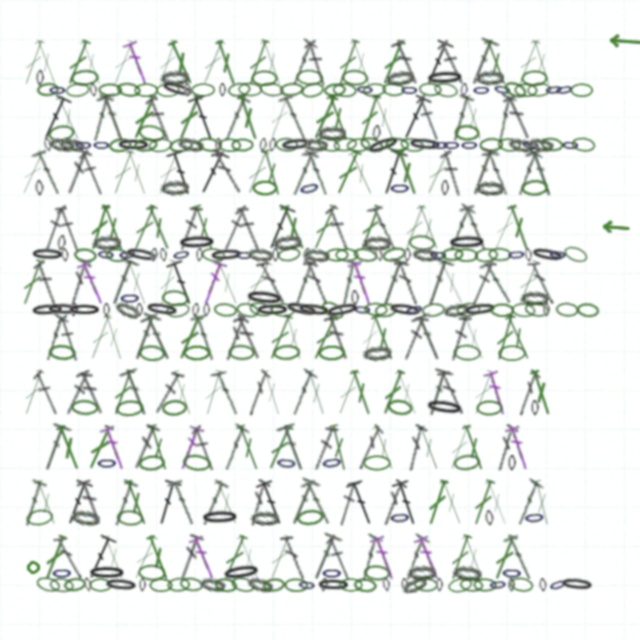chain: (365, 133, 402, 157), (424, 397, 465, 418), (221, 562, 262, 583), (159, 78, 196, 101), (244, 288, 285, 308), (283, 299, 320, 320), (123, 245, 160, 265), (529, 245, 566, 265), (324, 300, 361, 320), (425, 69, 465, 87), (400, 573, 429, 597), (144, 300, 180, 319), (177, 234, 217, 251), (447, 234, 487, 251), (200, 509, 240, 526), (296, 301, 332, 319), (319, 298, 346, 322), (387, 301, 423, 319), (87, 565, 127, 581), (113, 299, 142, 321), (384, 68, 415, 88), (279, 136, 315, 153), (407, 136, 443, 153), (462, 301, 498, 318), (559, 576, 595, 593), (47, 123, 76, 143), (137, 123, 166, 143), (103, 577, 139, 593), (272, 233, 302, 252), (70, 508, 100, 527), (315, 134, 342, 155), (358, 134, 385, 155), (562, 244, 589, 265), (209, 247, 244, 263), (30, 302, 65, 318), (182, 453, 211, 472), (25, 508, 54, 527), (502, 79, 528, 100), (362, 344, 392, 362), (452, 564, 482, 582), (386, 398, 414, 417), (453, 453, 481, 472), (296, 508, 324, 527), (246, 575, 274, 594), (30, 247, 65, 262), (46, 302, 81, 317), (115, 399, 144, 417), (507, 136, 535, 154), (408, 234, 436, 252), (161, 289, 189, 307), (442, 301, 470, 319), (138, 344, 166, 362), (138, 454, 166, 472), (116, 509, 144, 527), (363, 564, 391, 582), (297, 178, 322, 198), (381, 245, 407, 264), (248, 300, 274, 319), (35, 575, 61, 594), (230, 575, 256, 594), (70, 69, 99, 86), (160, 69, 189, 86), (475, 69, 504, 86), (160, 179, 189, 196), (92, 234, 121, 251), (407, 564, 436, 581), (116, 138, 151, 152), (67, 303, 102, 317), (255, 303, 290, 317), (316, 578, 351, 592), (341, 69, 369, 86), (48, 344, 76, 361), (453, 344, 481, 361), (138, 564, 166, 581), (433, 81, 459, 99), (168, 136, 194, 154), (399, 136, 425, 154), (352, 246, 378, 264), (165, 301, 191, 319), (447, 576, 473, 594), (317, 125, 346, 141), (475, 180, 504, 196), (362, 235, 391, 251), (520, 290, 549, 306), (250, 510, 279, 526), (296, 69, 323, 86), (48, 136, 75, 153), (58, 136, 85, 153), (177, 136, 204, 153), (527, 136, 554, 153), (521, 179, 548, 196), (228, 344, 255, 361), (273, 344, 300, 361), (71, 399, 98, 416), (161, 399, 188, 416), (199, 576, 226, 593), (320, 453, 344, 472), (300, 81, 325, 99), (235, 301, 260, 319), (498, 345, 526, 361), (363, 455, 391, 471), (454, 124, 480, 141), (196, 136, 222, 153), (251, 70, 278, 86), (521, 70, 548, 86), (303, 247, 330, 263), (183, 345, 210, 361), (318, 345, 345, 361), (476, 400, 503, 416), (116, 81, 141, 98), (259, 81, 284, 98), (333, 136, 358, 153), (571, 136, 596, 153), (456, 301, 481, 318), (524, 301, 549, 318), (179, 576, 204, 593), (509, 576, 534, 593), (547, 575, 569, 594), (252, 180, 278, 196), (275, 454, 298, 472), (227, 81, 251, 98), (540, 136, 564, 153), (277, 246, 301, 263), (63, 576, 87, 593), (65, 82, 90, 98), (332, 82, 357, 98), (362, 82, 387, 98), (133, 137, 158, 153), (148, 137, 173, 153), (346, 137, 371, 153), (201, 247, 226, 263), (474, 247, 499, 263), (213, 302, 238, 318), (421, 302, 446, 318), (511, 302, 536, 318), (49, 577, 74, 593), (459, 577, 484, 593), (523, 509, 546, 526), (302, 137, 328, 152), (247, 247, 273, 262), (412, 247, 438, 262), (323, 82, 347, 98), (108, 137, 132, 153), (497, 137, 521, 153), (73, 247, 97, 263), (105, 247, 129, 263), (374, 302, 398, 318), (576, 302, 600, 318), (214, 577, 238, 593), (262, 577, 286, 593), (353, 577, 377, 593), (279, 82, 304, 97), (389, 509, 411, 526), (36, 82, 60, 97), (238, 82, 262, 97), (418, 82, 442, 97), (527, 82, 551, 97), (385, 137, 409, 152), (479, 137, 503, 152), (488, 247, 512, 262), (364, 302, 388, 317), (555, 302, 579, 317), (414, 577, 438, 592), (492, 81, 513, 98), (554, 81, 575, 98), (171, 246, 192, 263), (404, 301, 425, 318), (389, 180, 411, 196), (119, 290, 141, 306), (96, 455, 118, 471), (51, 565, 73, 581), (321, 565, 343, 581), (501, 565, 523, 581), (382, 82, 405, 97), (275, 137, 298, 152), (441, 247, 464, 262), (167, 577, 190, 592), (98, 83, 122, 97), (134, 83, 158, 97), (156, 83, 180, 97), (191, 83, 215, 97), (514, 83, 538, 97), (325, 248, 349, 262), (335, 248, 359, 262), (454, 248, 478, 262), (271, 303, 295, 317), (490, 303, 514, 317), (149, 578, 173, 592), (284, 578, 308, 592), (339, 578, 363, 592), (473, 578, 497, 592), (570, 83, 593, 97), (218, 138, 241, 152), (231, 138, 254, 152), (89, 578, 112, 592), (521, 137, 541, 153), (297, 577, 317, 593), (355, 82, 375, 97), (544, 82, 564, 97), (96, 247, 116, 262), (548, 247, 568, 262), (488, 577, 508, 592), (118, 247, 137, 262), (507, 247, 526, 262), (353, 302, 372, 317), (48, 83, 67, 97), (400, 83, 419, 97), (472, 83, 491, 97), (74, 138, 93, 152), (92, 138, 111, 152), (431, 138, 450, 152), (442, 138, 461, 152), (460, 138, 479, 152), (561, 138, 580, 152), (235, 248, 254, 262), (429, 248, 448, 262), (43, 137, 53, 152), (374, 247, 384, 262), (83, 577, 93, 592), (372, 125, 381, 141), (35, 180, 44, 196), (57, 235, 66, 251), (485, 510, 494, 526), (382, 577, 391, 592), (36, 70, 44, 86), (441, 180, 449, 196), (351, 290, 359, 306), (531, 400, 539, 416), (508, 455, 516, 471), (89, 83, 98, 97), (268, 138, 277, 152), (159, 248, 168, 262), (524, 248, 533, 262), (191, 303, 200, 317), (460, 83, 468, 97), (259, 138, 267, 152), (61, 248, 69, 262), (150, 248, 158, 262), (303, 248, 311, 262), (70, 303, 78, 317), (320, 578, 328, 592), (401, 578, 409, 592), (539, 578, 547, 592), (184, 83, 191, 97), (219, 83, 226, 97), (215, 138, 222, 152), (196, 248, 203, 262), (272, 248, 279, 262), (404, 248, 411, 262), (103, 303, 110, 317), (136, 303, 143, 317), (203, 303, 210, 317), (543, 303, 550, 317), (139, 578, 146, 592), (436, 578, 443, 592), (508, 578, 515, 592)
double: (140, 312, 177, 363), (194, 148, 231, 198), (411, 312, 447, 363), (285, 477, 321, 528), (307, 532, 343, 583), (478, 258, 515, 307), (37, 93, 73, 143), (397, 93, 433, 143), (82, 533, 118, 583), (465, 37, 500, 88), (96, 92, 131, 143), (105, 257, 140, 308), (119, 367, 154, 418), (276, 422, 311, 473), (420, 38, 455, 88), (262, 203, 297, 253), (466, 147, 500, 198), (128, 312, 162, 363), (217, 93, 252, 142), (285, 148, 320, 197), (366, 203, 401, 252), (195, 478, 230, 527), (299, 478, 334, 527), (525, 148, 559, 198), (165, 258, 199, 308), (376, 258, 410, 308), (421, 258, 455, 308), (38, 423, 72, 473), (255, 478, 289, 528), (345, 478, 379, 528), (390, 38, 424, 87), (502, 93, 536, 142), (30, 148, 64, 197), (331, 148, 365, 197), (421, 148, 455, 197), (443, 203, 477, 252), (435, 258, 469, 307), (232, 313, 266, 362), (75, 368, 109, 417), (83, 423, 117, 472), (511, 478, 545, 527), (187, 93, 220, 143), (165, 148, 198, 198), (61, 478, 94, 528), (241, 259, 275, 307), (165, 38, 198, 87), (286, 38, 319, 87), (128, 93, 161, 142), (277, 93, 310, 142), (308, 93, 341, 142), (16, 148, 49, 197), (511, 148, 544, 197), (128, 203, 161, 252), (277, 203, 310, 252), (308, 203, 341, 252), (173, 313, 206, 362), (502, 313, 535, 362), (210, 368, 243, 417), (286, 368, 319, 417), (218, 423, 251, 472), (263, 423, 296, 472), (210, 478, 243, 527), (128, 533, 161, 582), (218, 533, 251, 582), (502, 533, 535, 582), (377, 148, 409, 198), (422, 368, 454, 418), (391, 478, 423, 528), (151, 369, 185, 416), (52, 94, 85, 142), (345, 149, 378, 197), (308, 314, 341, 362), (62, 38, 94, 87), (107, 38, 139, 87), (197, 38, 229, 87), (377, 38, 409, 87), (368, 93, 400, 142), (152, 148, 184, 197), (301, 148, 333, 197), (481, 148, 513, 197), (143, 203, 175, 252), (458, 203, 490, 252), (489, 203, 521, 252), (76, 258, 108, 307), (211, 258, 243, 307), (287, 258, 319, 307), (512, 258, 544, 307), (264, 313, 296, 362), (458, 313, 490, 362), (391, 368, 423, 417), (53, 423, 85, 472), (129, 423, 161, 472), (107, 478, 139, 527), (166, 478, 198, 527), (481, 478, 513, 527), (98, 533, 130, 582), (233, 533, 265, 582), (264, 533, 296, 582), (399, 533, 431, 582), (152, 478, 183, 528), (31, 38, 62, 87), (76, 38, 107, 87), (481, 38, 512, 87), (174, 93, 205, 142), (264, 93, 295, 142), (323, 93, 354, 142), (62, 148, 93, 197), (107, 148, 138, 197), (242, 148, 273, 197), (98, 203, 129, 252), (399, 203, 430, 252), (413, 203, 444, 252), (17, 258, 48, 307), (121, 258, 152, 307), (39, 313, 70, 362), (323, 313, 354, 362), (368, 313, 399, 362), (332, 368, 363, 417), (233, 423, 264, 472), (444, 423, 475, 472), (17, 478, 48, 527), (31, 478, 62, 527), (76, 478, 107, 527), (121, 478, 152, 527), (436, 478, 467, 527), (143, 533, 174, 582), (188, 533, 219, 582), (413, 533, 444, 582), (458, 533, 489, 582), (489, 533, 520, 582), (436, 39, 468, 86), (211, 149, 243, 196), (53, 534, 85, 581), (256, 259, 287, 307), (219, 314, 250, 362), (62, 369, 93, 417), (377, 479, 408, 527), (18, 38, 48, 87), (122, 38, 152, 87), (243, 38, 273, 87), (257, 38, 287, 87), (333, 38, 363, 87), (513, 38, 543, 87), (85, 93, 115, 142), (445, 93, 475, 142), (122, 148, 152, 197), (392, 148, 422, 197), (189, 203, 219, 252), (355, 203, 385, 252), (504, 203, 534, 252), (198, 258, 228, 307), (85, 313, 115, 362), (18, 368, 48, 417), (108, 368, 138, 417), (167, 368, 197, 417), (378, 368, 408, 417), (468, 368, 498, 417), (99, 423, 129, 472), (175, 423, 205, 472), (369, 423, 399, 472), (414, 423, 444, 472), (459, 423, 489, 472), (468, 478, 498, 527), (40, 533, 70, 582), (175, 533, 205, 582), (369, 533, 399, 582), (445, 533, 475, 582), (31, 369, 62, 416), (354, 424, 385, 471), (144, 94, 174, 142), (234, 204, 264, 252), (153, 38, 182, 87), (212, 38, 241, 87), (347, 38, 376, 87), (527, 38, 556, 87), (234, 93, 263, 142), (355, 93, 384, 142), (459, 93, 488, 142), (85, 203, 114, 252), (347, 258, 376, 307), (99, 313, 128, 362), (189, 313, 218, 362), (302, 368, 331, 417), (347, 368, 376, 417), (527, 368, 556, 417), (144, 423, 173, 472), (504, 423, 533, 472), (423, 478, 452, 527), (355, 533, 384, 582), (77, 149, 107, 196), (527, 259, 557, 306), (324, 534, 354, 581), (324, 204, 353, 252), (32, 259, 61, 307), (400, 314, 429, 362), (437, 369, 466, 417), (310, 424, 339, 472), (258, 148, 286, 197), (280, 313, 308, 362), (491, 313, 519, 362), (199, 368, 227, 417), (258, 368, 286, 417), (414, 94, 443, 141), (55, 204, 83, 252), (221, 204, 249, 252), (64, 259, 92, 307), (469, 259, 497, 307), (244, 369, 272, 417), (514, 369, 542, 417), (190, 424, 218, 472), (491, 424, 519, 472), (491, 93, 518, 142), (154, 258, 181, 307), (334, 258, 361, 307), (483, 368, 510, 417), (303, 39, 330, 87), (176, 204, 203, 252), (303, 259, 330, 307), (244, 479, 271, 527), (280, 534, 307, 582), (357, 313, 383, 362), (326, 423, 352, 472), (529, 478, 555, 527), (439, 149, 465, 197), (394, 259, 420, 307), (56, 314, 82, 362), (402, 424, 428, 472), (42, 204, 67, 252), (447, 314, 472, 362), (336, 479, 360, 527)
noise: (607, 33, 640, 50), (600, 220, 630, 234), (26, 560, 41, 575)
